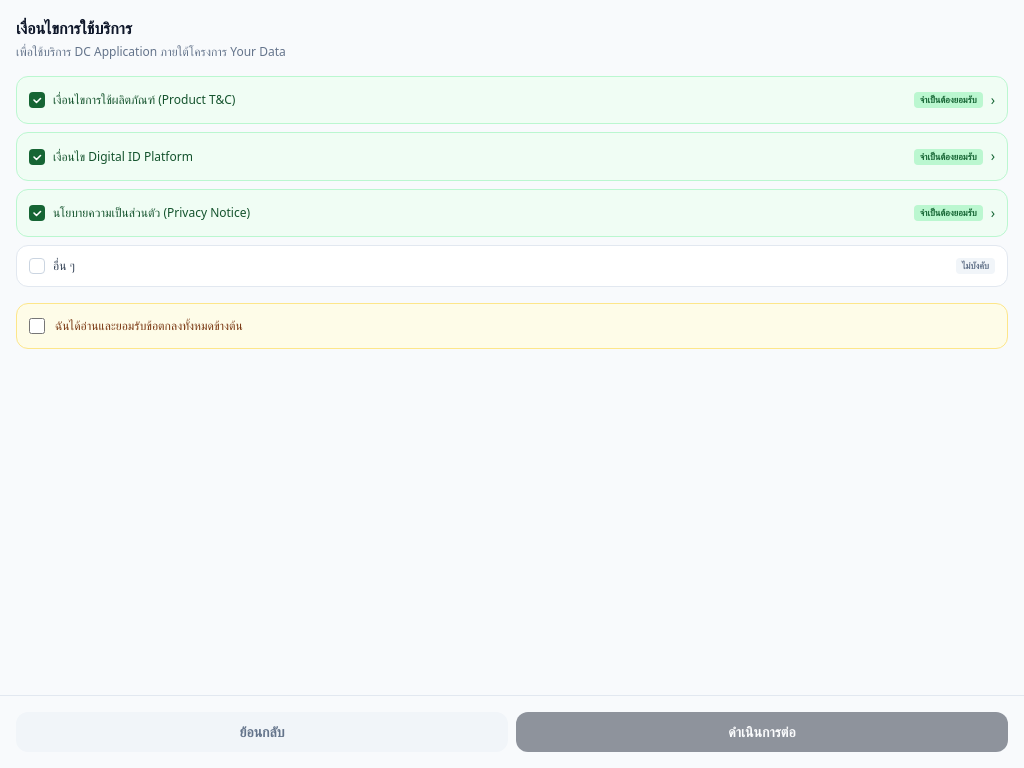
Test: StepTerms (M1) › Next button is enabled after checkbox is checked (M1)
Click the checkbox with test id "terms-checkbox".
click(37, 326)  # box [29,318,45,334]
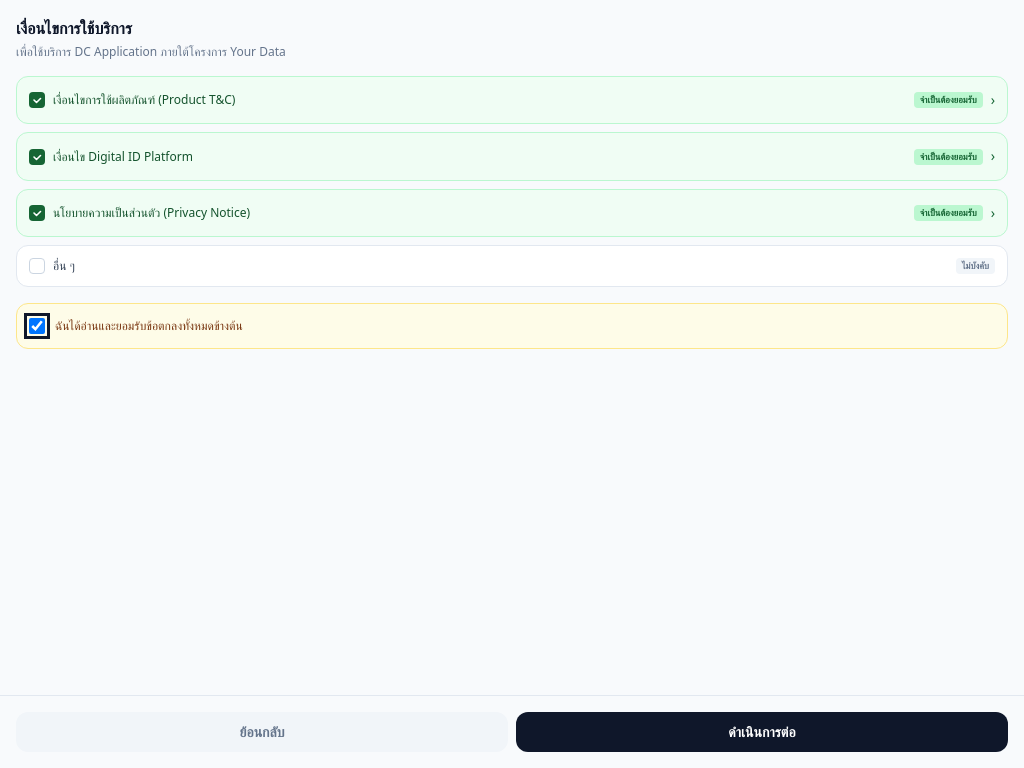
expect the button with test id "terms-next-button" is enabled: met, box [516,712,1008,752]
